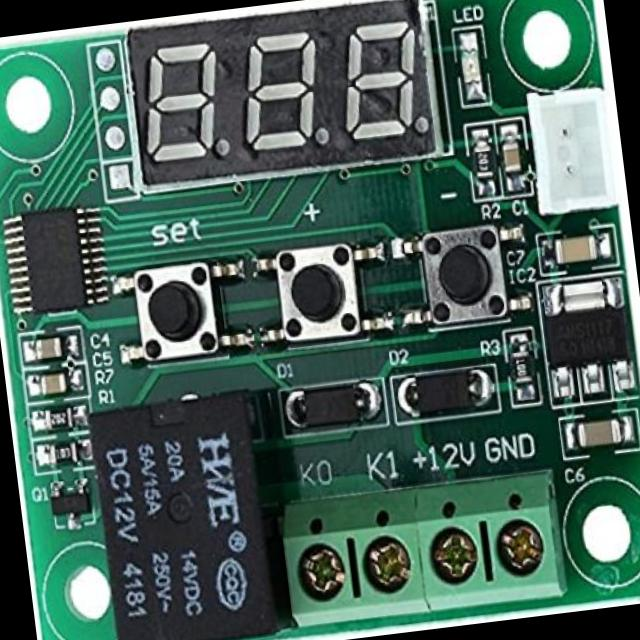IC: (10, 194, 102, 320), (550, 276, 638, 398)
LED: (456, 30, 488, 98)
capacitor: (572, 411, 628, 456), (550, 232, 606, 274), (501, 137, 527, 186), (26, 332, 66, 363), (34, 366, 72, 398)
connector: (418, 474, 572, 622), (276, 495, 432, 640), (526, 80, 622, 212)
diode: (288, 379, 378, 431), (402, 364, 488, 418)
resistor: (508, 342, 538, 394), (46, 438, 80, 468), (474, 137, 494, 181), (42, 404, 74, 426)
transistor: (46, 480, 92, 530)
